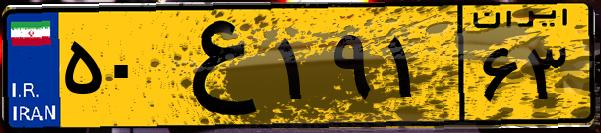0: (110, 28, 158, 98)
1: (270, 28, 330, 110), (385, 28, 445, 110)
3: (525, 38, 570, 115)
5: (57, 26, 110, 100)
6: (475, 38, 525, 113)
9: (330, 28, 385, 110)
ع: (158, 12, 270, 120)
